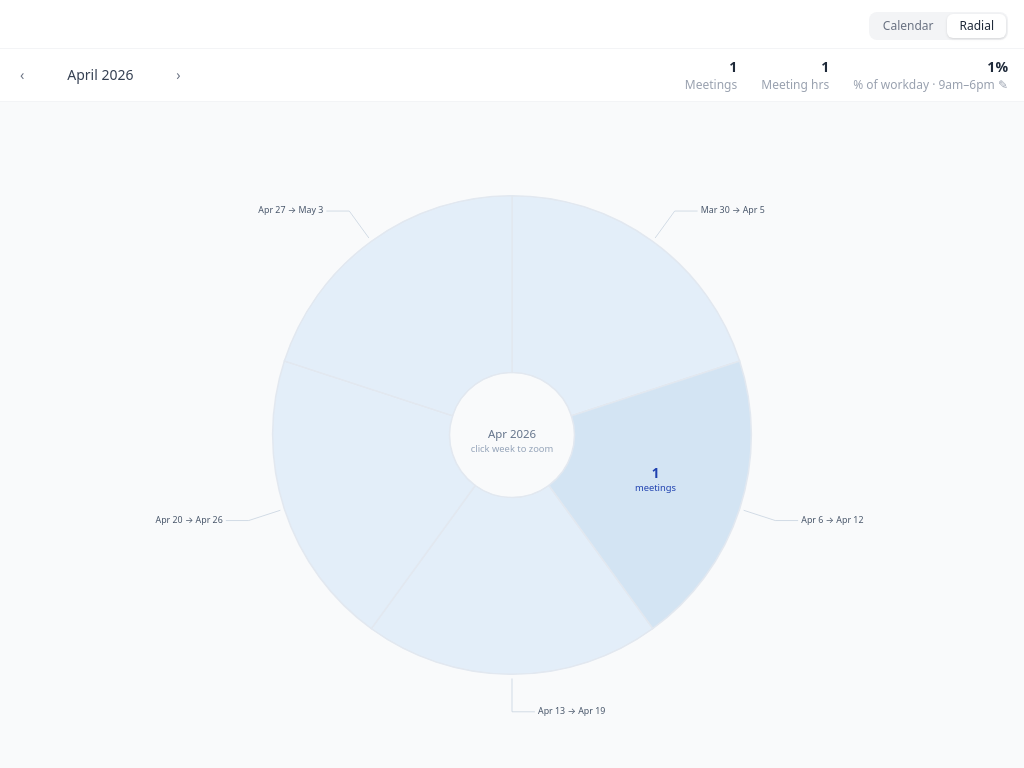
Test: CalendarView › switches to month grid when Month + Calendar is selected
Click the button with test id "display-toggle-calendar" at {"x": 908, "y": 26}, box [871, 14, 946, 38]
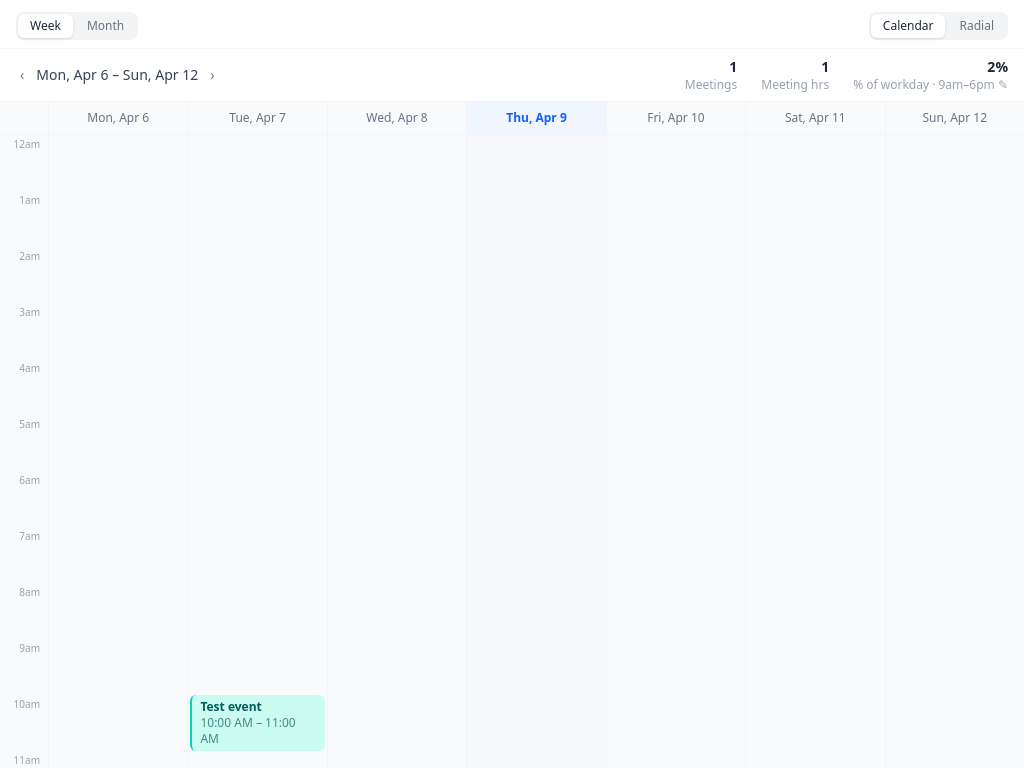
Click the button with test id "time-toggle-month" at {"x": 106, "y": 26}, box [75, 14, 136, 38]
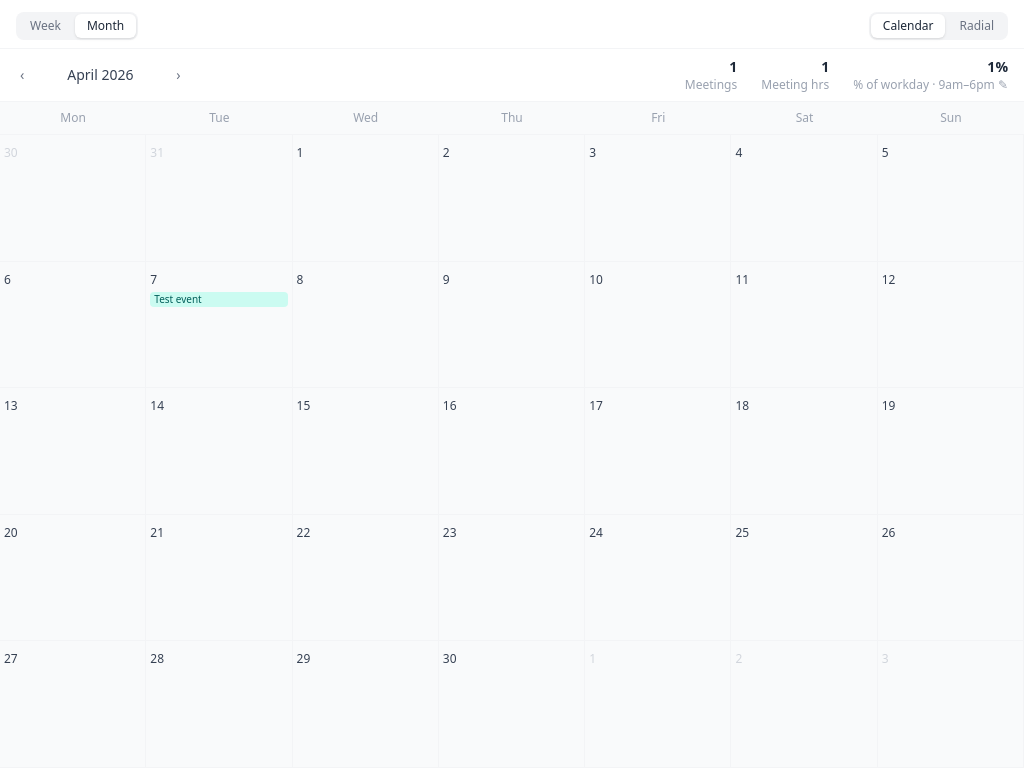
Expected: the element with test id "month-grid" is shown
